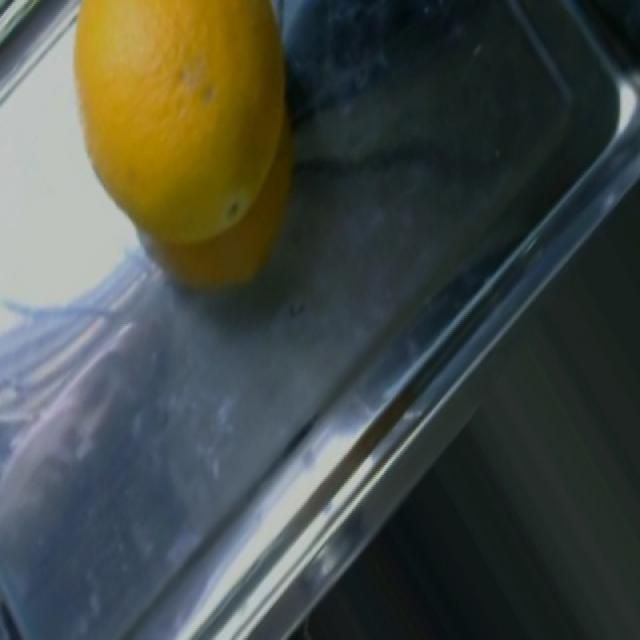Fruit: (52, 0, 309, 314)
